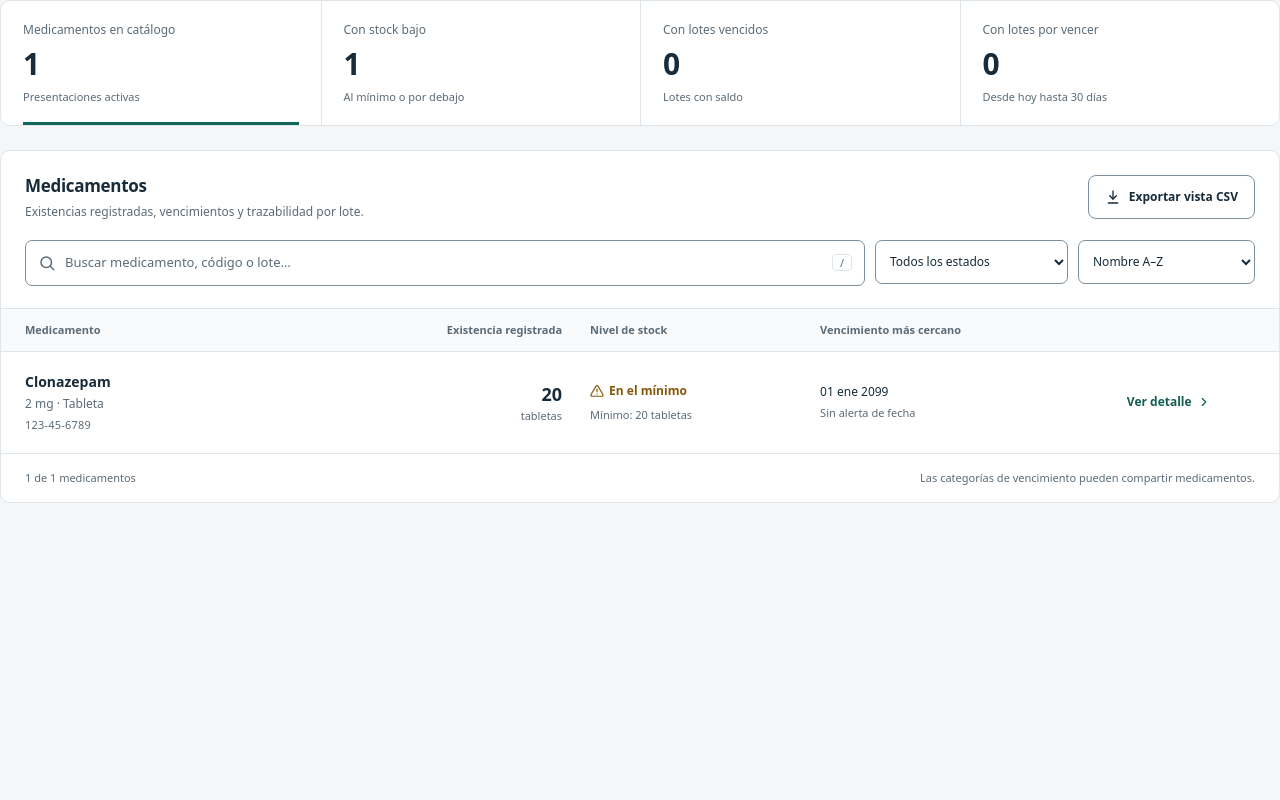
Test: inventario conectado › abre el detalle heredado y conserva los accesos de egreso y trazabilidad
The image size is (1280, 800).
Click the button with aria-label "Ver detalle de Clonazepam 2 mg" at point(1169, 402), box top-left (1127, 380), bottom-right (1211, 424)
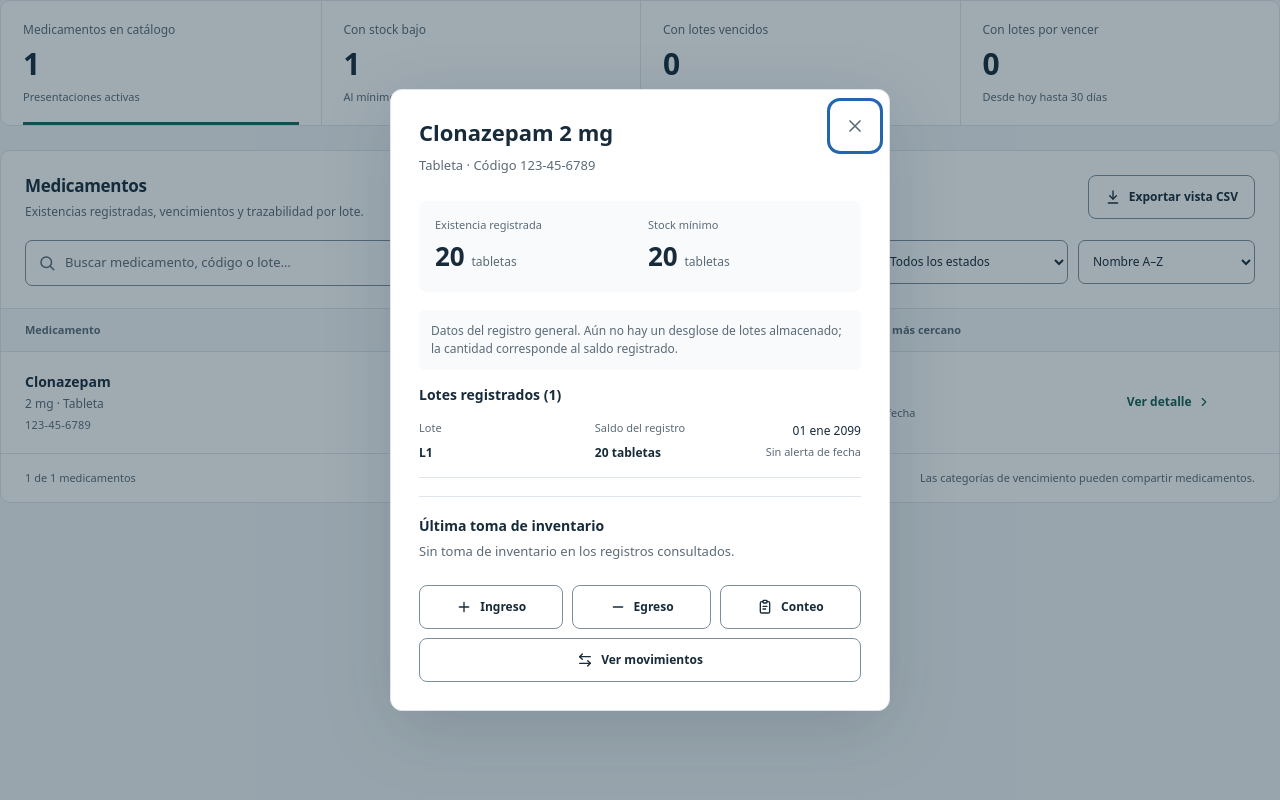
Now the text "Aún no hay un desglose" is shown, box top-left (431, 322), bottom-right (842, 357)
Now the text "L1" is shown, box top-left (419, 444), bottom-right (433, 461)
Click the button "Egreso" at point(642, 607), box top-left (572, 585), bottom-right (711, 629)
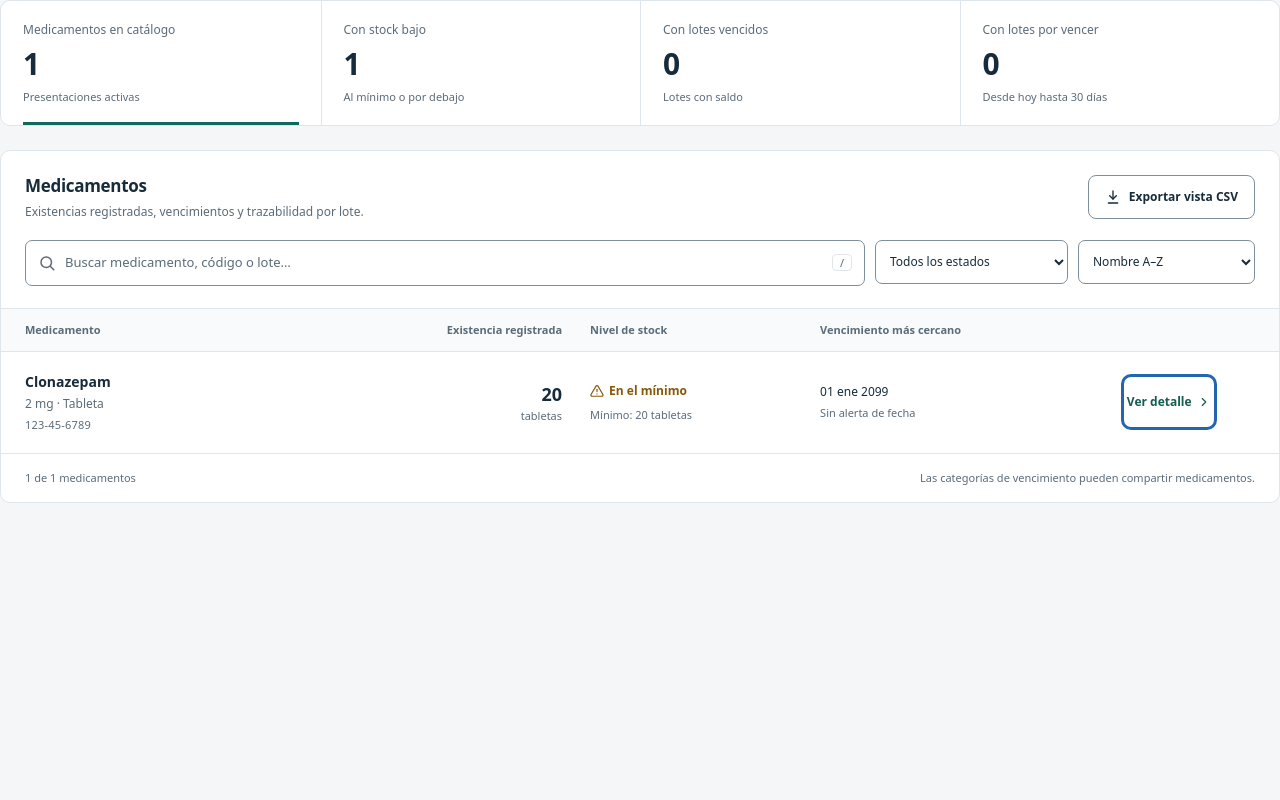
Now the dialog is gone
